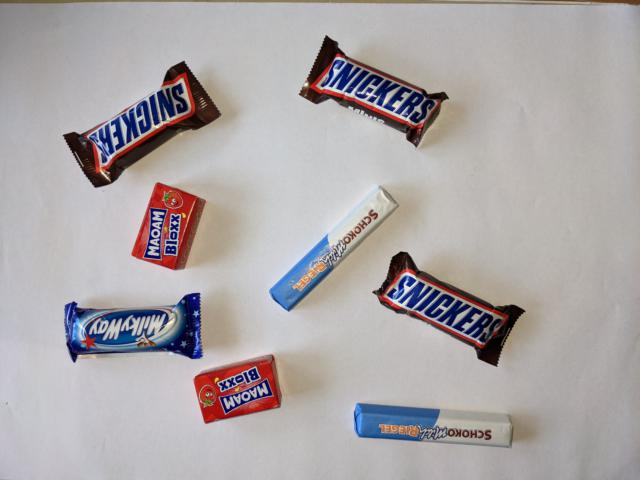MAOAM: (128, 180, 209, 273), (191, 352, 285, 427)
MilkyWay: (60, 289, 205, 367)
Schokoriegel: (265, 180, 404, 315), (351, 401, 518, 452)
Snickers: (60, 60, 224, 191), (370, 249, 526, 369), (294, 32, 451, 151)
